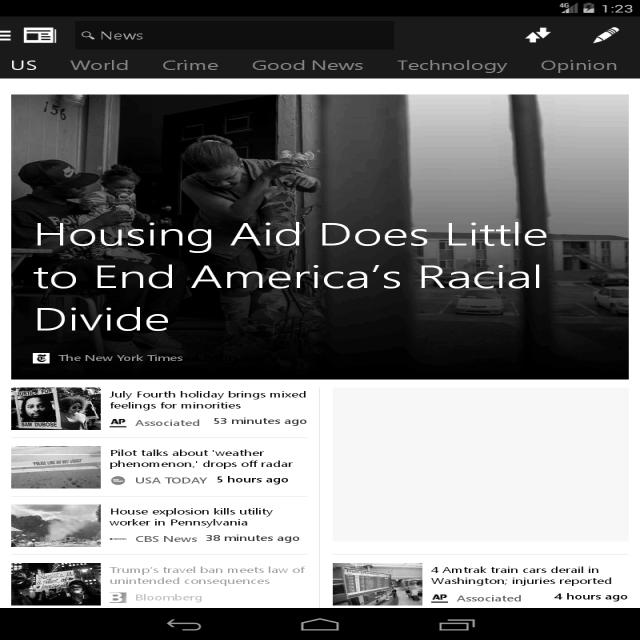ImageButton: (512, 20, 562, 48), (585, 23, 628, 47)
ImageView: (10, 95, 607, 208), (318, 556, 424, 606), (15, 389, 90, 437), (15, 560, 99, 602), (10, 442, 90, 485), (23, 502, 98, 546), (6, 21, 57, 48)
TextView: (28, 215, 558, 294), (108, 444, 302, 476), (111, 383, 306, 409), (433, 560, 612, 585), (30, 306, 188, 332), (250, 54, 368, 76), (70, 20, 140, 48), (202, 526, 310, 543), (534, 55, 623, 75), (62, 55, 150, 74), (206, 415, 303, 428), (66, 348, 178, 358), (544, 592, 623, 600)
